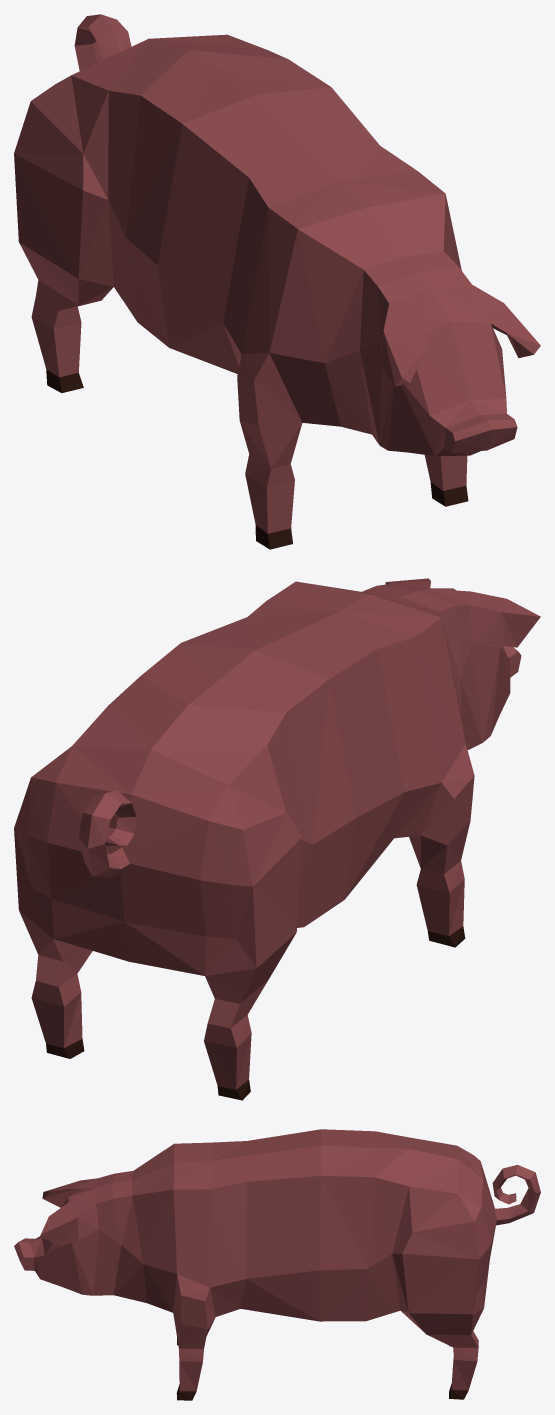
File: Pig.obj
3 views of the same model, one above another, from view 1: azimuth 30°, elevation 25°; view 2: azimuth 150°, elevation 25°; view 3: azimuth 270°, elevation 25° (orthographic). The views are drawn at different scales.
Visible parts, largest first — view 1: Pig; view 2: Pig; view 3: Pig.
Boxes of the visible parts, bbox=[...] form: Pig: bbox=[14, 14, 540, 549]; Pig: bbox=[14, 578, 540, 1100]; Pig: bbox=[14, 1129, 540, 1400].
Size of the model in its own units: 3.3 by 4.58 by 9.77.
